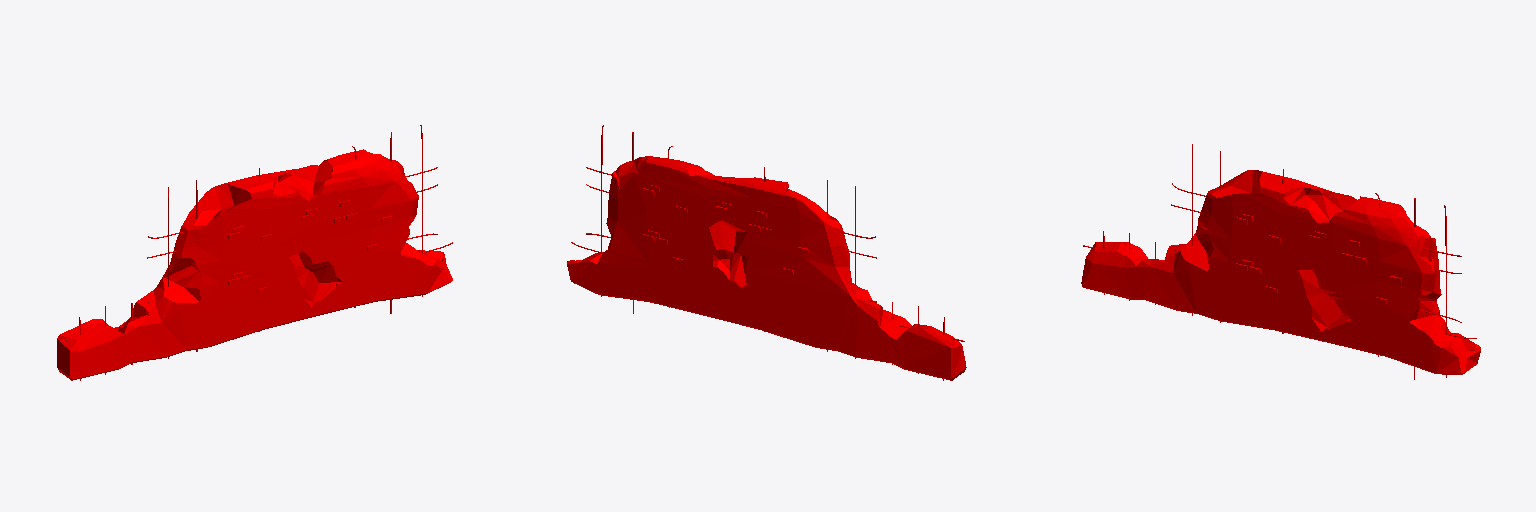
The model's file is EverythingLibrary_Furnishings_Wall.obj.
The picture shows the model from 3 angles: view 1: azimuth 30°, elevation 25°; view 2: azimuth 150°, elevation 25°; view 3: azimuth 330°, elevation 25°; orthographic projection.
Parts seen in each view (by area): view 1: DestroyedWall_Mesh.1207; view 2: DestroyedWall_Mesh.1207; view 3: DestroyedWall_Mesh.1207.
Part boxes in pixels (bbox=[...]): DestroyedWall_Mesh.1207: bbox=[57, 125, 452, 380]; DestroyedWall_Mesh.1207: bbox=[567, 125, 966, 380]; DestroyedWall_Mesh.1207: bbox=[1081, 144, 1480, 379].
Bounding box in the file's own units: 7.89 × 3.48 × 0.5775.